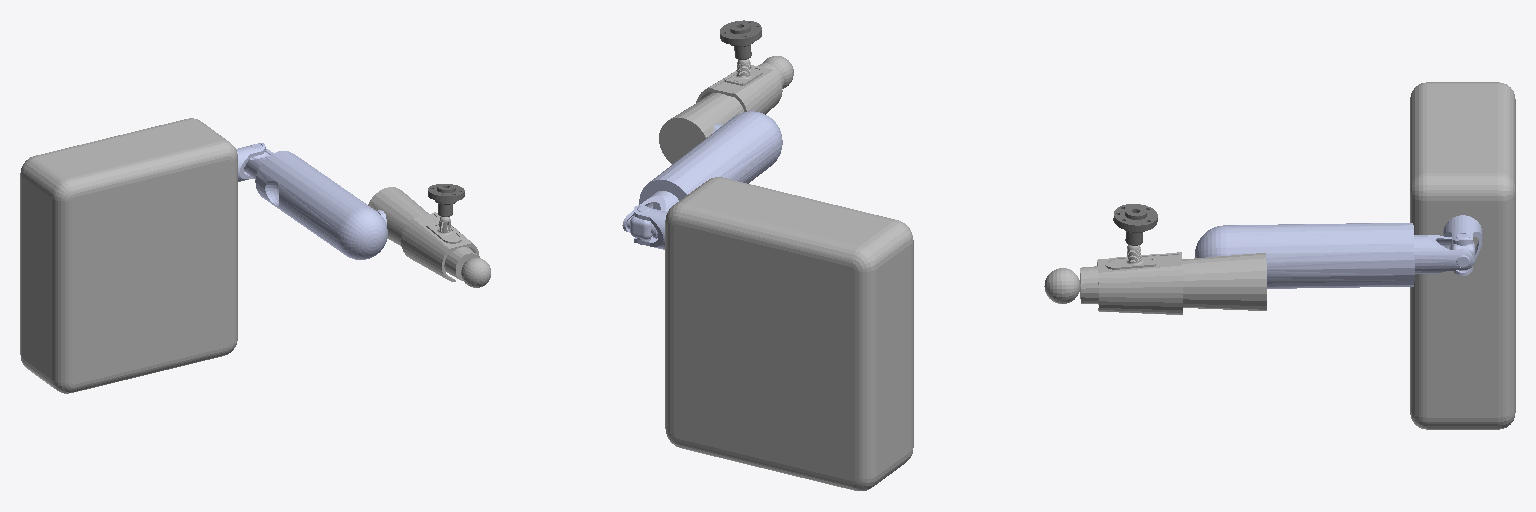
The robot description file, URDF, robot "humano_con_herramienta":
<?xml version="1.0" encoding="utf-8" ?>
<!-- This URDF was automatically created by SolidWorks to URDF Exporter! Originally created by [author] ([email redacted]) 
     Commit Version: 1.6.0-1-g15f4949  Build Version: 1.6.7594.29634
     For more information, please see http://wiki.ros.org/sw_urdf_exporter -->
<robot name="humano_con_herramienta">
    <link name="Torso_link">
        
<inertial>
            <origin xyz="-0.179701296927635 0.075 0.200188604102793" rpy="0 0 0" />
            <mass value="21.1478222049488" />
            <inertia ixx="0.31372452298567" ixy="-1.38841291837781E-17" ixz="-0.000756636466134756" iyy="0.498624765068563" iyz="-5.71260361670733E-10" izz="0.261892001804298" />
        </inertial>

        <visual>
            <origin xyz="0 0 0" rpy="0 0 0" />
            <geometry>
                <mesh filename="package://humano_con_herramienta/meshes/Torso_link.STL" />
            </geometry>
            <material name="">
                <color rgba="0.749019607843137 0.749019607843137 0.749019607843137 1" />
            </material>
        </visual>
        <collision>
            <origin xyz="0 0 0" rpy="0 0 0" />
            <geometry>
                <mesh filename="package://humano_con_herramienta/meshes/Torso_link.STL" />
            </geometry>
        </collision>
    </link>
    <link name="Hombro_Link">
        
<inertial>
            <origin xyz="0.0289339664438241 -3.35023981529181E-07 4.06333012514803E-07" rpy="0 0 0" />
            <mass value="0.0392456846377238" />
            <inertia ixx="2.56283643382997E-05" ixy="4.86132527241775E-10" ixz="-6.01688007095489E-10" iyy="3.3171230091628E-05" iyz="2.7055632847191E-08" izz="2.6396306627809E-05" />
        </inertial>

        <visual>
            <origin xyz="0 0 0" rpy="0 0 0" />
            <geometry>
                <mesh filename="package://humano_con_herramienta/meshes/Hombro_Link.STL" />
            </geometry>
            <material name="">
                <color rgba="0.792156862745098 0.819607843137255 0.933333333333333 1" />
            </material>
        </visual>
        <collision>
            <origin xyz="0 0 0" rpy="0 0 0" />
            <geometry>
                <mesh filename="package://humano_con_herramienta/meshes/Hombro_Link.STL" />
            </geometry>
        </collision>
    </link>
    <joint name="Hombro_Joint" type="continuous">
        <origin xyz="0 0.075 0.32" rpy="0 0 0" />
        <parent link="Torso_link" />
        <child link="Hombro_Link" />
        <axis xyz="1 0 0" />
    </joint>
    <link name="Brazo_Link">
        
<inertial>
            <origin xyz="0.00737158621036889 -0.213541319529487 -0.000871954169548494" rpy="0 0 0" />
            <mass value="2.06499804461819" />
            <inertia ixx="0.0158159410581589" ixy="0.000502696481746206" ixz="1.81297551936055E-06" iyy="0.00216963354957945" iyz="-5.60827159115449E-05" izz="0.0159246259645358" />
        </inertial>

        <visual>
            <origin xyz="0 0 0" rpy="0 0 0" />
            <geometry>
                <mesh filename="package://humano_con_herramienta/meshes/Brazo_Link.STL" />
            </geometry>
            <material name="">
                <color rgba="0.792156862745098 0.819607843137255 0.933333333333333 1" />
            </material>
        </visual>
        <collision>
            <origin xyz="0 0 0" rpy="0 0 0" />
            <geometry>
                <mesh filename="package://humano_con_herramienta/meshes/Brazo_Link.STL" />
            </geometry>
        </collision>
    </link>
    <joint name="Brazo_Joint" type="continuous">
        <origin xyz="0.0699999999999999 0 0" rpy="0 0 0" />
        <parent link="Hombro_Link" />
        <child link="Brazo_Link" />
        <axis xyz="0 -0.00410265804584114 0.999991584063065" />
    </joint>
    <link name="Antebrazo_Link">
        
<inertial>
            <origin xyz="0.054129942982022 -0.0920179998970292 -1.1538204673367E-05" rpy="0 0 0" />
            <mass value="1.14948544644456" />
            <inertia ixx="0.00777558725498917" ixy="0.000111699472038683" ixz="1.2752148655127E-06" iyy="0.000778644081476658" iyz="-7.15247621907364E-05" izz="0.00779338119888791" />
        </inertial>

        <visual>
            <origin xyz="0 0 0" rpy="0 0 0" />
            <geometry>
                <mesh filename="package://humano_con_herramienta/meshes/Antebrazo_Link.STL" />
            </geometry>
            <material name="">
                <color rgba="0.749019607843137 0.749019607843137 0.749019607843137 1" />
            </material>
        </visual>
        <collision>
            <origin xyz="0 0 0" rpy="0 0 0" />
            <geometry>
                <mesh filename="package://humano_con_herramienta/meshes/Antebrazo_Link.STL" />
            </geometry>
        </collision>
    </link>
    <joint name="Antebrazo_Joint" type="continuous">
        <origin xyz="0.0435404858331481 -0.320923681320263 -0.00122016243606254" rpy="0 0 0" />
        <parent link="Brazo_Link" />
        <child link="Antebrazo_Link" />
        <axis xyz="-0.999619507283765 -0.0274313315340041 -0.00289183471769717" />
    </joint>
    <link name="Esfera_Link">
        
<inertial>
            <origin xyz="0.0095282708170579 0.000242526791625619 -0.000342316425138045" rpy="0 0 0" />
            <mass value="0.00284240217600144" />
            <inertia ixx="9.28692814490058E-08" ixy="-5.0515799403368E-13" ixz="-8.72666444419725E-12" iyy="9.28863150395005E-08" iyz="2.93677663521512E-10" izz="9.81287805975299E-08" />
        </inertial>

        <visual>
            <origin xyz="0 0 0" rpy="0 0 0" />
            <geometry>
                <mesh filename="package://humano_con_herramienta/meshes/Esfera_Link.STL" />
            </geometry>
            <material name="">
                <color rgba="0.749019607843137 0.749019607843137 0.749019607843137 1" />
            </material>
        </visual>
        <collision>
            <origin xyz="0 0 0" rpy="0 0 0" />
            <geometry>
                <mesh filename="package://humano_con_herramienta/meshes/Esfera_Link.STL" />
            </geometry>
        </collision>
    </link>
    <joint name="Esfera_Joint" type="continuous">
        <origin xyz="0.0453264355830897 -0.148022941656319 0.0566647550735426" rpy="0 0 0" />
        <parent link="Antebrazo_Link" />
        <child link="Esfera_Link" />
        <axis xyz="-0.99962297027782 -0.0274573185237648 -0.00011380875513051" />
    </joint>
    <link name="Herramienta_Link">
        
<inertial>
            <origin xyz="0.00405972818628855 -0.0283963928750232 0.0441481223741427" rpy="0 0 0" />
            <mass value="0.0558305704742621" />
            <inertia ixx="1.70792791220477E-05" ixy="-3.01401059424095E-09" ixz="9.75812447479686E-08" iyy="1.72469745973279E-05" iyz="1.32403972255785E-08" izz="1.83228586716378E-05" />
        </inertial>

        <visual>
            <origin xyz="0 0 0" rpy="0 0 0" />
            <geometry>
                <mesh filename="package://humano_con_herramienta/meshes/Herramienta_Link.STL" />
            </geometry>
            <material name="">
                <color rgba="0.501960784313725 0.501960784313725 0.501960784313725 1" />
            </material>
        </visual>
        <collision>
            <origin xyz="0 0 0" rpy="0 0 0" />
            <geometry>
                <mesh filename="package://humano_con_herramienta/meshes/Herramienta_Link.STL" />
            </geometry>
        </collision>
    </link>
    <joint name="Herramienta_Joint" type="continuous">
        <origin xyz="0.00867793467178143 0.0312084850665503 -0.0023615668129347" rpy="0 0 0" />
        <parent link="Esfera_Link" />
        <child link="Herramienta_Link" />
        <axis xyz="-0.0273690498770434 0.996724835023797 -0.0760955869654301" />
    </joint>
    
<transmission name="trans_Hombro_Joint">
        <type>transmission_interface/SimpleTransmission</type>
        <joint name="Hombro_Joint">
            <hardwareInterface>hardware_interface/EffortJointInterface</hardwareInterface>
        </joint>
        <actuator name="Hombro_Joint_motor">
            <hardwareInterface>hardware_interface/EffortJointInterface</hardwareInterface>
            <mechanicalReduction>1</mechanicalReduction>
        </actuator>
    </transmission>
    <transmission name="trans_Brazo_Joint">
        <type>transmission_interface/SimpleTransmission</type>
        <joint name="Brazo_Joint">
            <hardwareInterface>hardware_interface/EffortJointInterface</hardwareInterface>
        </joint>
        <actuator name="Brazo_Joint_motor">
            <hardwareInterface>hardware_interface/EffortJointInterface</hardwareInterface>
            <mechanicalReduction>1</mechanicalReduction>
        </actuator>
    </transmission>
    <transmission name="trans_Antebrazo_Joint">
        <type>transmission_interface/SimpleTransmission</type>
        <joint name="Antebrazo_Joint">
            <hardwareInterface>hardware_interface/EffortJointInterface</hardwareInterface>
        </joint>
        <actuator name="Antebrazo_Joint_motor">
            <hardwareInterface>hardware_interface/EffortJointInterface</hardwareInterface>
            <mechanicalReduction>1</mechanicalReduction>
        </actuator>
    </transmission>
    <transmission name="trans_Esfera_Joint">
        <type>transmission_interface/SimpleTransmission</type>
        <joint name="Esfera_Joint">
            <hardwareInterface>hardware_interface/EffortJointInterface</hardwareInterface>
        </joint>
        <actuator name="Esfera_Joint_motor">
            <hardwareInterface>hardware_interface/EffortJointInterface</hardwareInterface>
            <mechanicalReduction>1</mechanicalReduction>
        </actuator>
    </transmission>
    <transmission name="trans_Herramienta_Joint">
        <type>transmission_interface/SimpleTransmission</type>
        <joint name="Herramienta_Joint">
            <hardwareInterface>hardware_interface/EffortJointInterface</hardwareInterface>
        </joint>
        <actuator name="Herramienta_Joint_motor">
            <hardwareInterface>hardware_interface/EffortJointInterface</hardwareInterface>
            <mechanicalReduction>1</mechanicalReduction>
        </actuator>
    </transmission>
    <gazebo>
        <plugin name="gazebo_ros_control" filename="libgazebo_ros_control.so">
            <robotNamespace>/</robotNamespace>
        </plugin>
    </gazebo>
</robot>

--- Render facts (derived) ---
The picture shows the robot from 3 angles, left to right: view 1: azimuth 30°, elevation 25°; view 2: azimuth 150°, elevation 25°; view 3: azimuth 270°, elevation 25°; orthographic projection.
Robot: humano_con_herramienta — 6 links, 5 joints (5 continuous); root link Torso_link; default pose: all joints at 0.
Links seen in each view (by area): view 1: Torso_link, Brazo_Link, Antebrazo_Link, Herramienta_Link; view 2: Torso_link, Brazo_Link, Antebrazo_Link, Herramienta_Link, Hombro_Link; view 3: Torso_link, Brazo_Link, Antebrazo_Link, Herramienta_Link, Hombro_Link.
Link boxes in pixels (x1,y1,x2,y2): Torso_link: (20,118,237,393); Brazo_Link: (244,144,387,259); Antebrazo_Link: (368,187,490,287); Herramienta_Link: (428,184,464,216); Torso_link: (665,177,913,490); Brazo_Link: (622,111,782,244); Antebrazo_Link: (659,56,793,163); Herramienta_Link: (720,20,761,59); Hombro_Link: (634,205,667,249); Torso_link: (1410,82,1515,429); Brazo_Link: (1195,223,1474,288); Antebrazo_Link: (1044,247,1266,314); Herramienta_Link: (1113,204,1157,245); Hombro_Link: (1443,215,1482,275).
Bounding box of the posed robot: 0.5715 × 0.6707 × 0.4367 m (x, y, z).
6 mesh visuals loaded from 6 distinct referenced files (6 binary STL).